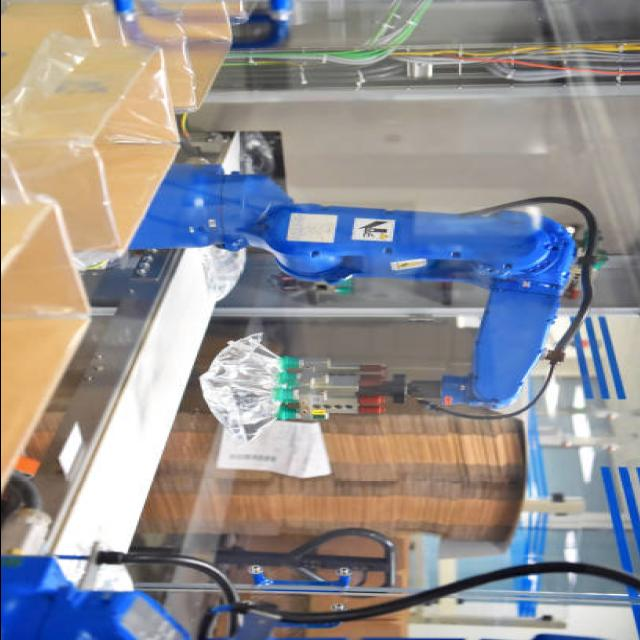Robotic-arm: (143, 164, 611, 438)
